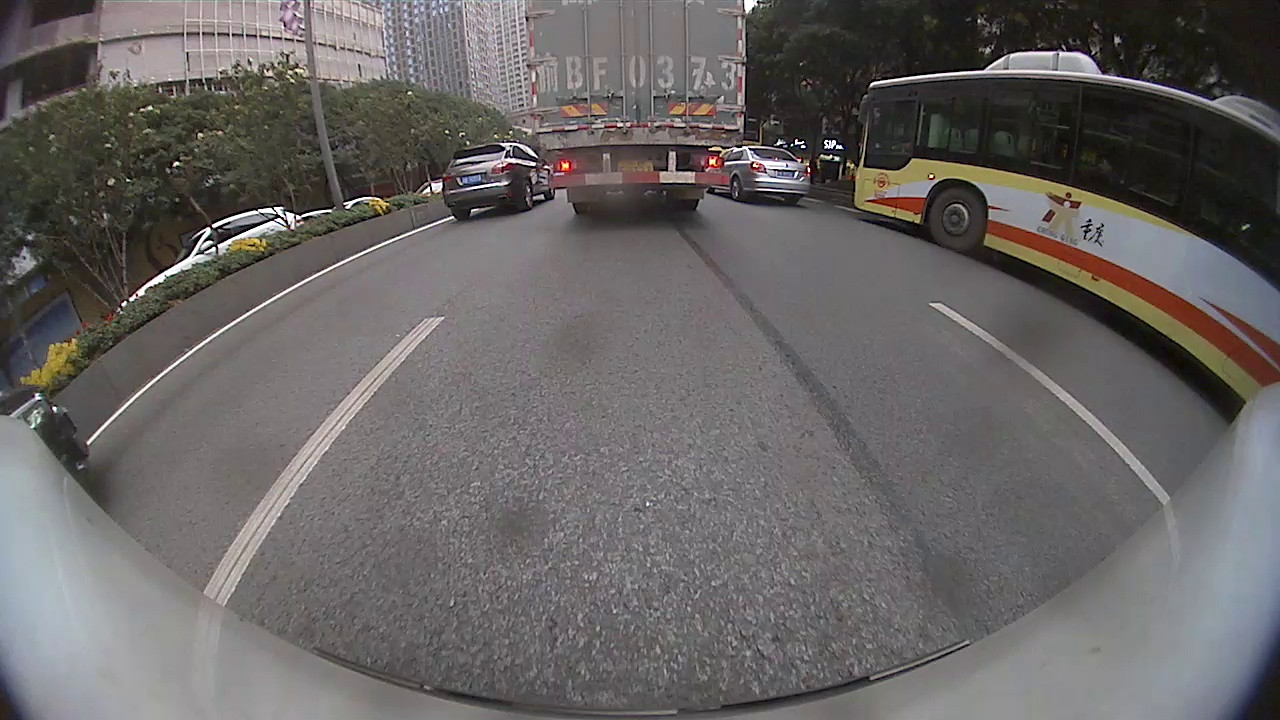bus: (849, 53, 1277, 401)
car: (441, 142, 559, 222), (2, 387, 90, 485), (706, 148, 810, 206)
front: (927, 185, 989, 254)
rear: (518, 181, 534, 212), (729, 177, 742, 202)
truck: (525, 0, 744, 214)
